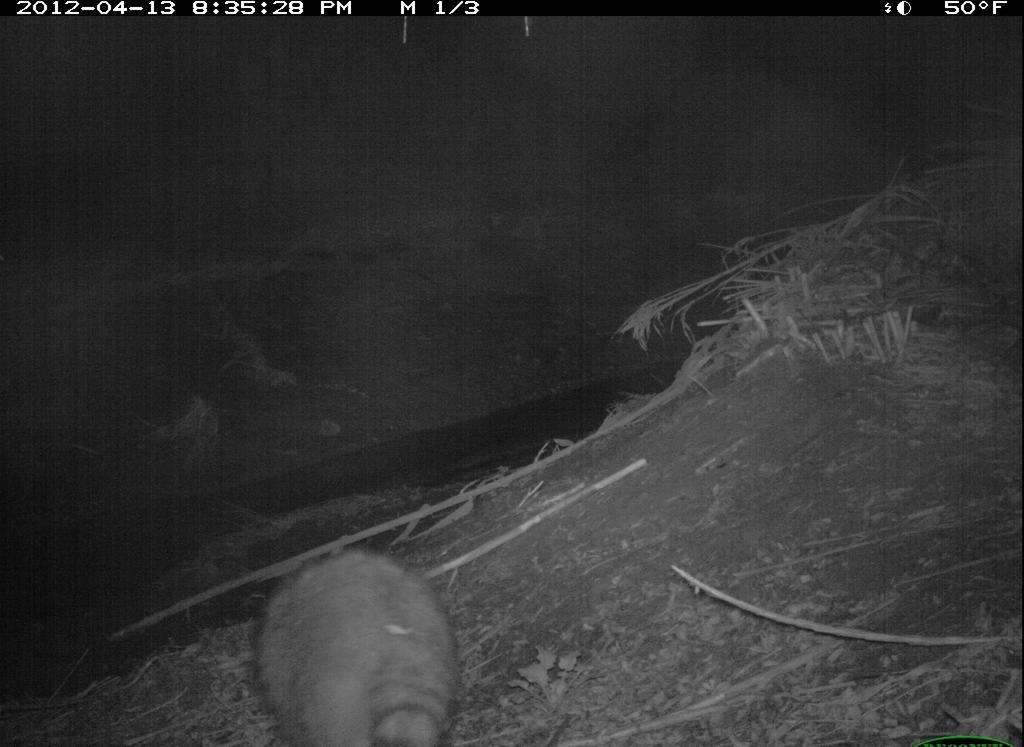raccoon: (235, 534, 496, 744)
